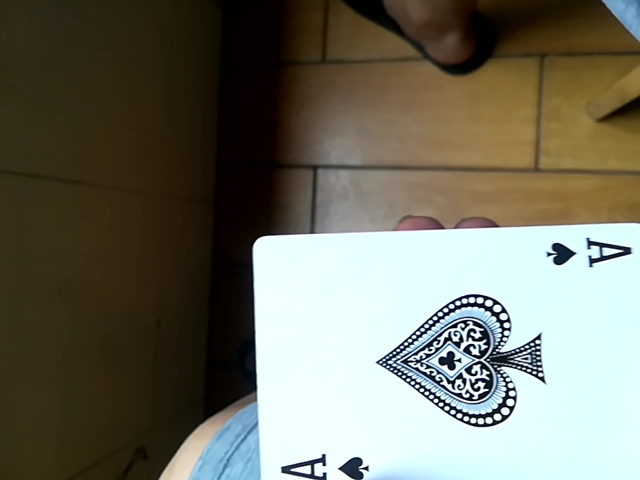ht a: (239, 222, 635, 479)
